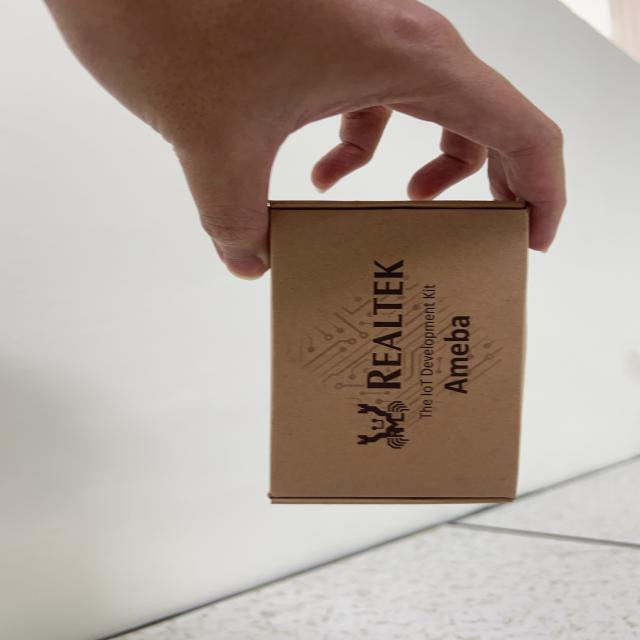box: (224, 185, 541, 533)
